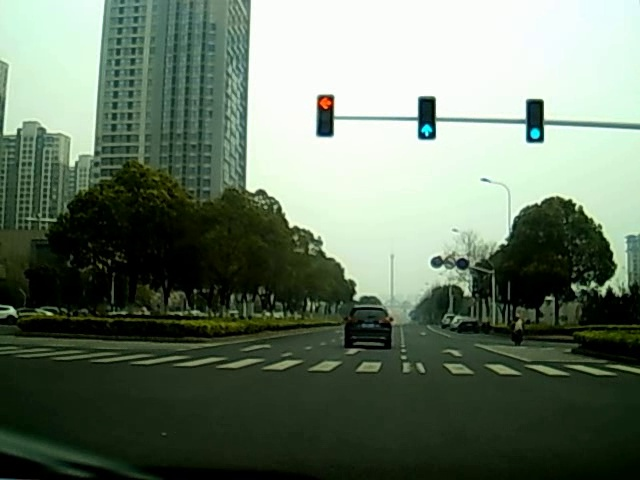Traffic_Light_go: (526, 101, 544, 140), (418, 100, 433, 139)
Traffic_Light_stop: (316, 95, 332, 129)
